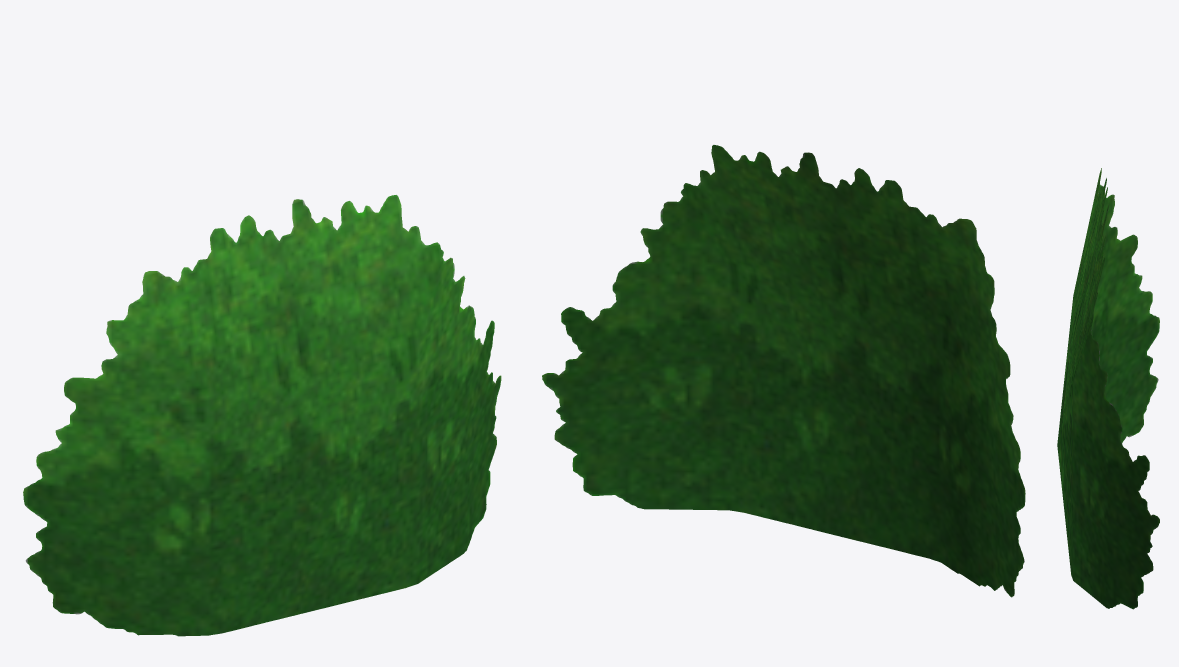
The model's file is Bush.fbx.
3 renders of one model, left to right at view 1: azimuth 30°, elevation 25°; view 2: azimuth 150°, elevation 25°; view 3: azimuth 270°, elevation 25°, orthographic. The views are drawn at different scales.
Parts seen in each view (by area): view 1: Bush; view 2: Bush; view 3: Bush.
Part boxes in pixels (<box>): Bush: <box>23,195,501,636</box>; Bush: <box>542,145,1025,597</box>; Bush: <box>1057,168,1159,609</box>.
Bounding box in the file's own units: 300 × 300 × 66.98.
